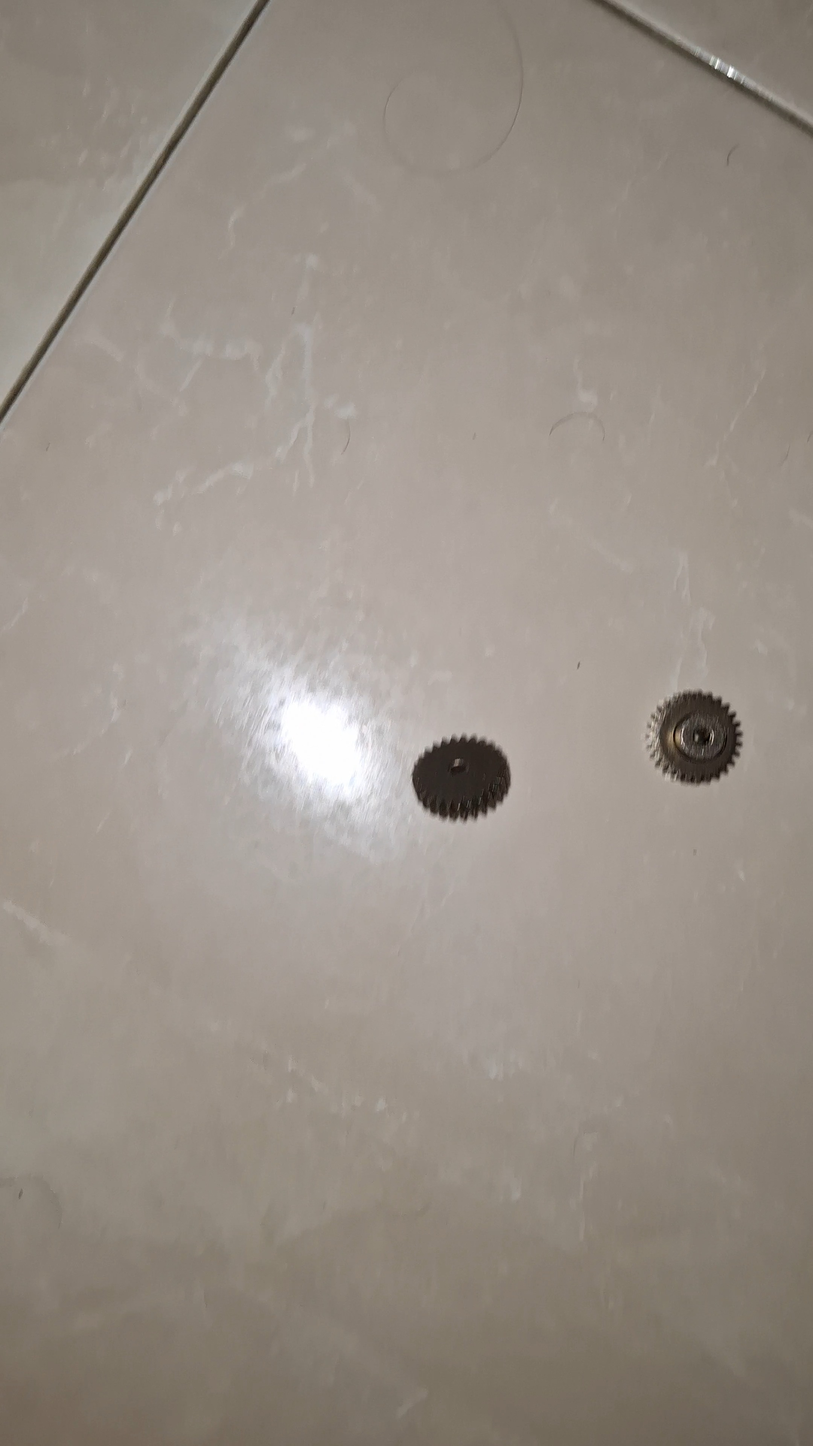spur gear: (647, 692, 741, 784), (412, 737, 510, 819)
